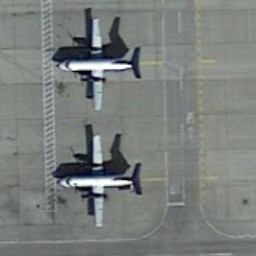Airplane: (44, 126, 155, 234), (44, 10, 151, 117)
